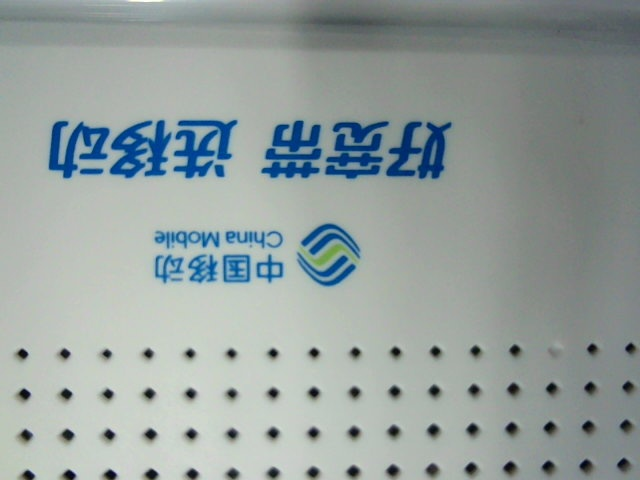AA_ChinaMoble: (46, 105, 459, 285)
